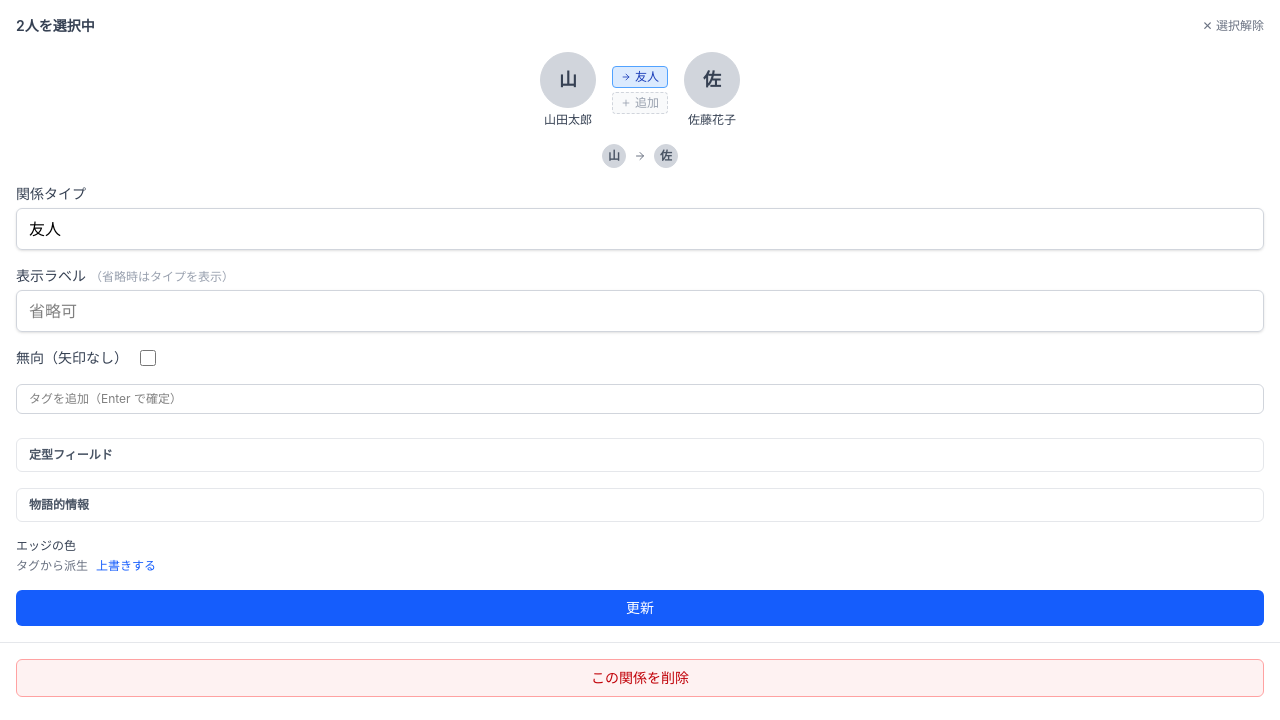
Test case: PairSelectionPanel › 関連エピソード表示 › ペアのエッジに関連するエピソードが「物語的情報」内に表示される
Click the heading "物語的情報" at (59, 504), box [29,497,89,512]
(page scrolled)
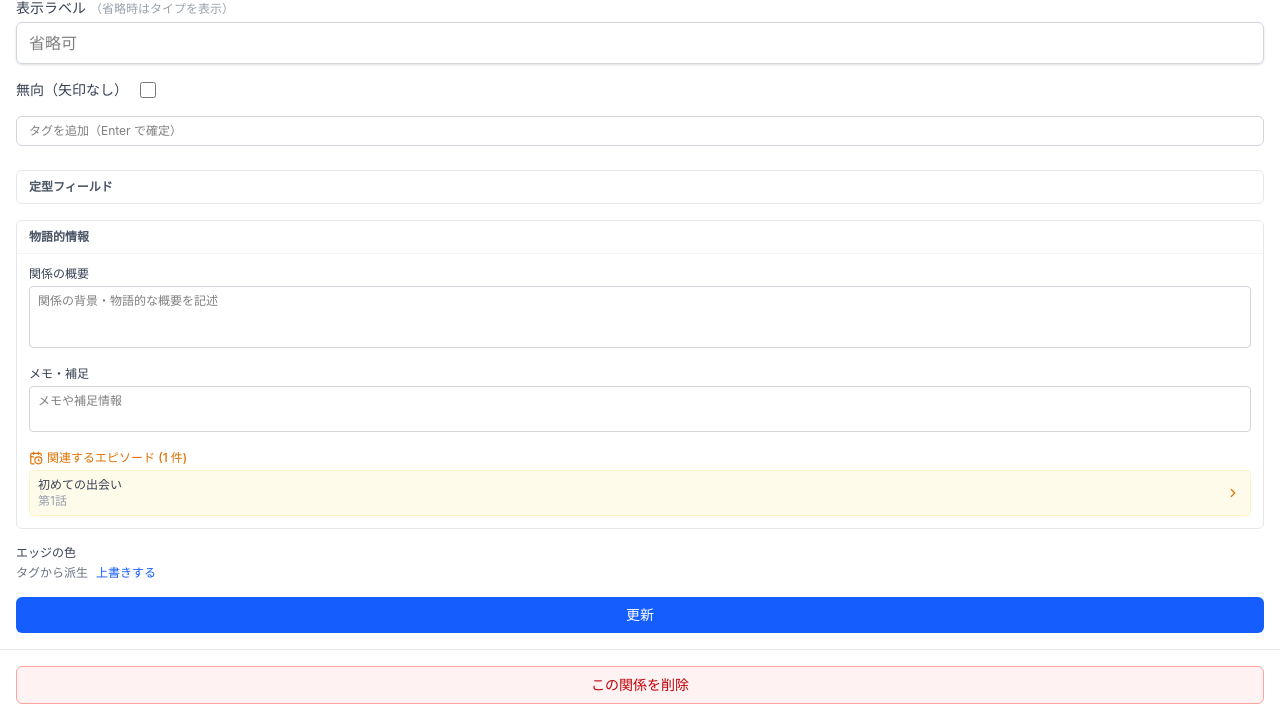
Check: the text "初めての出会い" is shown, box [38,477,122,493]
Check: the text "第1話" is shown, box [38,493,67,508]
